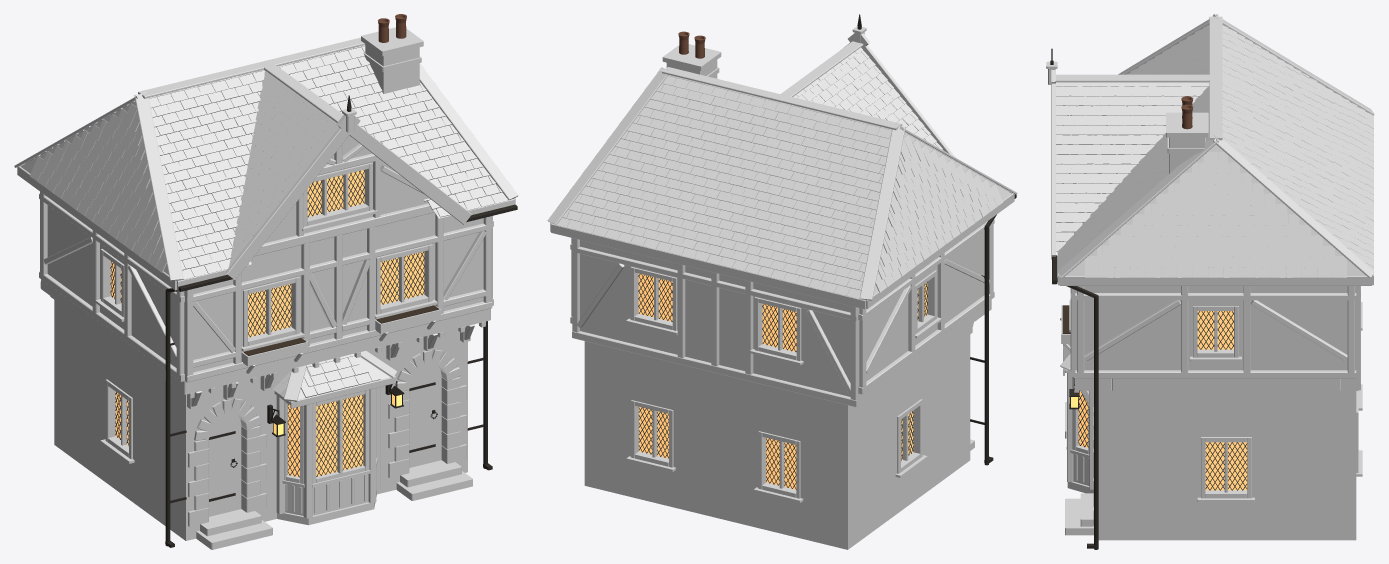
File: SilverbrookTownhouse3.glb
3 views of the same model, side by side, from view 1: azimuth 30°, elevation 25°; view 2: azimuth 150°, elevation 25°; view 3: azimuth 270°, elevation 25° (orthographic). The views are drawn at different scales.
Visible parts, largest first — view 1: SM_SBTownhouse3_Roof, SM_SBTownhouse3_Timber, SM_SBTownhouse3_Masonry, SM_SBTownhouse3_Plaster, SM_SBTownhouse3_Details, SM_SBTownhouse3_Details_Door1, SM_SBTownhouse3_Details_Door2; view 2: SM_SBTownhouse3_Roof, SM_SBTownhouse3_Masonry, SM_SBTownhouse3_Timber, SM_SBTownhouse3_Plaster, SM_SBTownhouse3_Details; view 3: SM_SBTownhouse3_Roof, SM_SBTownhouse3_Masonry, SM_SBTownhouse3_Timber, SM_SBTownhouse3_Plaster, SM_SBTownhouse3_Details.
Part boxes in pixels (x1,y1,x2,y2): SM_SBTownhouse3_Roof: [14, 37, 518, 408]; SM_SBTownhouse3_Timber: [17, 108, 515, 518]; SM_SBTownhouse3_Masonry: [54, 27, 472, 549]; SM_SBTownhouse3_Plaster: [43, 135, 483, 373]; SM_SBTownhouse3_Details: [110, 14, 517, 547]; SM_SBTownhouse3_Details_Door1: [209, 414, 241, 516]; SM_SBTownhouse3_Details_Door2: [409, 365, 441, 467]; SM_SBTownhouse3_Roof: [547, 41, 1017, 300]; SM_SBTownhouse3_Masonry: [584, 44, 974, 549]; SM_SBTownhouse3_Timber: [550, 26, 1014, 502]; SM_SBTownhouse3_Plaster: [580, 231, 984, 405]; SM_SBTownhouse3_Details: [638, 14, 1016, 489]; SM_SBTownhouse3_Roof: [1056, 14, 1374, 375]; SM_SBTownhouse3_Masonry: [1065, 112, 1356, 540]; SM_SBTownhouse3_Timber: [1046, 61, 1373, 502]; SM_SBTownhouse3_Plaster: [1075, 286, 1356, 390]; SM_SBTownhouse3_Details: [1050, 48, 1247, 549].
Bounding box in the file's own units: 7.65 × 8.98 × 6.31.
